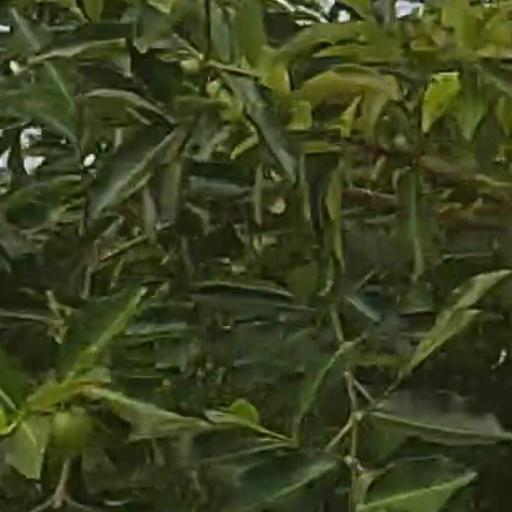acerola: (51, 410, 90, 450)
